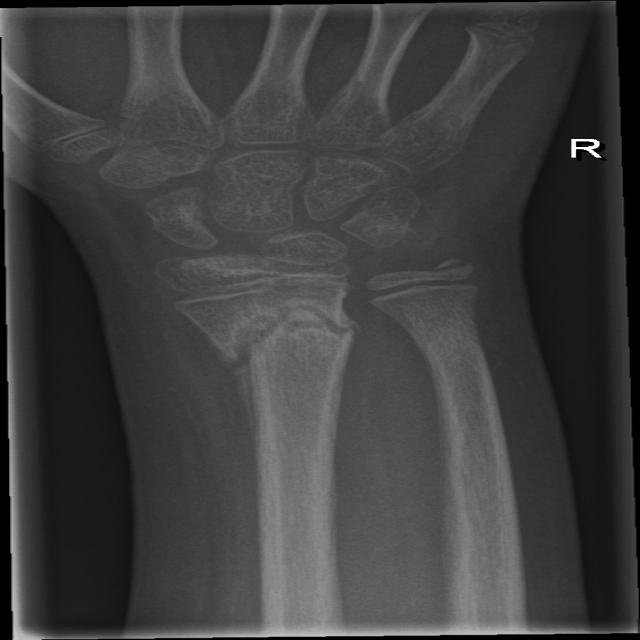radius fracture: (164, 297, 370, 393)
